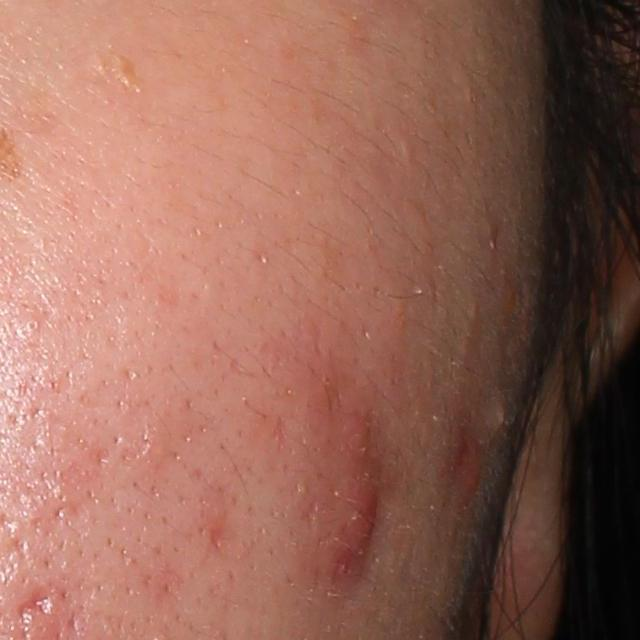atrophic_scar: (13, 581, 57, 626)
comedo: (492, 405, 509, 429), (23, 316, 41, 335)
melasma: (114, 50, 143, 90)
papule: (339, 491, 377, 553), (342, 413, 376, 457), (456, 454, 484, 497)
